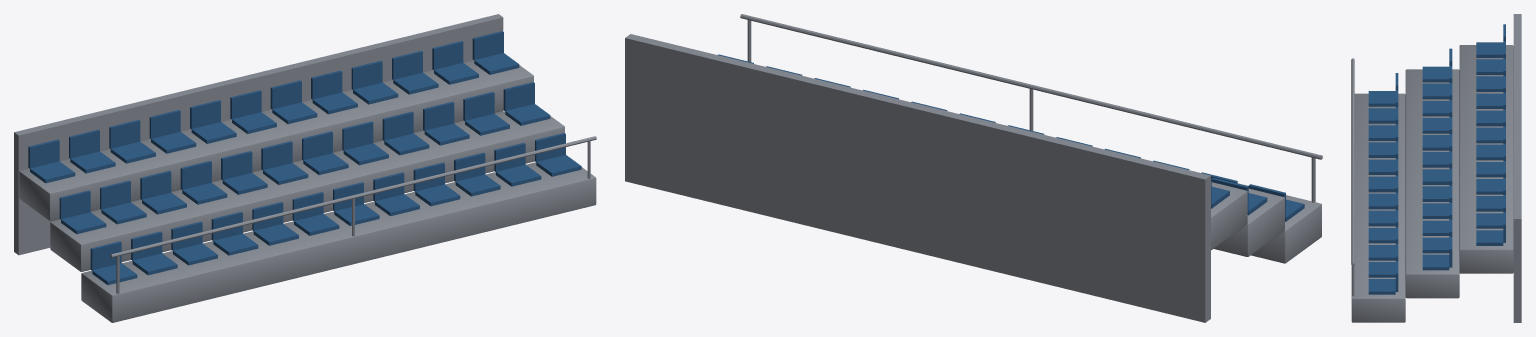
The model's file is arquibancada-72.glb.
3 views of the same model, side by side, from view 1: azimuth 30°, elevation 25°; view 2: azimuth 150°, elevation 25°; view 3: azimuth 270°, elevation 25° (orthographic). The views are drawn at different scales.
Parts seen in each view (by area): view 1: degrau, degrau.002, muro, degrau.001, corrimao, encosto.024, encosto.012, encosto.021, encosto.026, encosto.030, encosto.014, encosto.015 (+65 smaller); view 2: muro, corrimao, degrau.001, degrau, degrau.002; view 3: degrau.001, degrau.002, degrau, muro, corrimao, assento.005, assento.006, assento.007, assento.028, assento.029, assento.030, assento.012 (+29 smaller).
Part boxes in pixels (bbox=[...]): degrau: bbox=[81, 162, 596, 322]; degrau.002: bbox=[19, 60, 533, 220]; muro: bbox=[14, 14, 503, 255]; degrau.001: bbox=[50, 111, 564, 271]; corrimao: bbox=[110, 136, 596, 257]; encosto.024: bbox=[28, 139, 59, 168]; encosto.012: bbox=[59, 190, 90, 219]; encosto.021: bbox=[423, 101, 454, 130]; encosto.026: bbox=[109, 119, 140, 148]; encosto.030: bbox=[270, 80, 301, 109]; encosto.014: bbox=[140, 170, 171, 199]; encosto.015: bbox=[180, 161, 211, 189]; muro: bbox=[625, 34, 1210, 322]; corrimao: bbox=[740, 14, 1322, 159]; degrau.001: bbox=[1214, 188, 1284, 256]; degrau: bbox=[1238, 183, 1321, 263]; degrau.002: bbox=[1211, 182, 1247, 250]; degrau.001: bbox=[1405, 69, 1459, 298]; degrau.002: bbox=[1459, 45, 1513, 273]; degrau: bbox=[1351, 93, 1405, 322]; muro: bbox=[1513, 14, 1521, 322]; corrimao: bbox=[1351, 58, 1354, 266]; assento.005: bbox=[1368, 176, 1395, 192]; assento.006: bbox=[1368, 193, 1395, 209]; assento.007: bbox=[1368, 210, 1395, 226]; assento.028: bbox=[1476, 110, 1503, 126]; assento.029: bbox=[1476, 127, 1503, 143]; assento.030: bbox=[1476, 144, 1503, 160]; assento.012: bbox=[1422, 66, 1449, 82].
Size of the model in its own units: 7.2 by 1.7 by 2.52.
